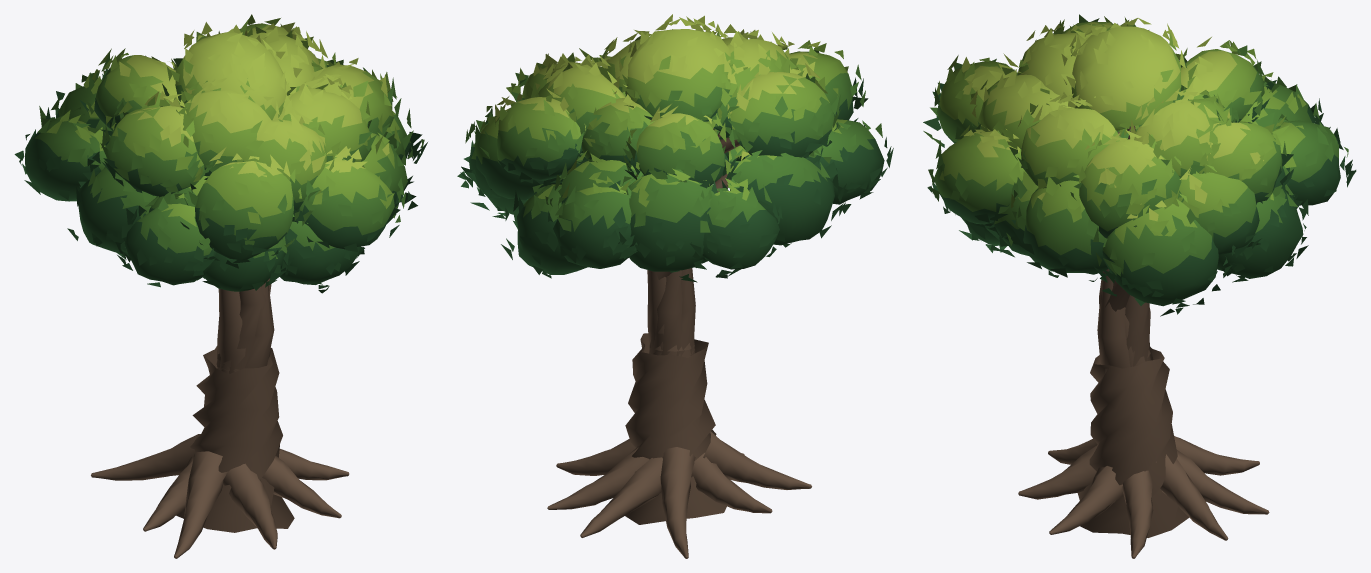
Rendered from AncientOakB.glb.
3 views of the same model, side by side, from view 1: azimuth 30°, elevation 25°; view 2: azimuth 150°, elevation 25°; view 3: azimuth 270°, elevation 25° (orthographic).
Visible parts, largest first — view 1: AncientOakB.bark, AncientOakB.leafMid, AncientOakB.leafLight, AncientOakB.leafGold, AncientOakB.leafDark; view 2: AncientOakB.leafDark, AncientOakB.bark, AncientOakB.leafMid, AncientOakB.leafLight, AncientOakB.leafGold; view 3: AncientOakB.leafLight, AncientOakB.bark, AncientOakB.leafGold, AncientOakB.leafMid, AncientOakB.leafDark.
Part boxes in pixels (x1,y1,x2,y2): AncientOakB.bark: (91, 278, 349, 558); AncientOakB.leafMid: (35, 52, 424, 259); AncientOakB.leafLight: (46, 14, 400, 226); AncientOakB.leafGold: (119, 22, 389, 177); AncientOakB.leafDark: (14, 69, 427, 293); AncientOakB.leafDark: (457, 77, 893, 282); AncientOakB.bark: (547, 128, 811, 558); AncientOakB.leafMid: (465, 47, 882, 232); AncientOakB.leafLight: (480, 31, 848, 206); AncientOakB.leafGold: (495, 14, 820, 160); AncientOakB.leafLight: (934, 16, 1306, 243); AncientOakB.bark: (1018, 126, 1269, 558); AncientOakB.leafGold: (962, 18, 1263, 221); AncientOakB.leafMid: (923, 14, 1348, 276); AncientOakB.leafDark: (923, 80, 1356, 316).
Bounding box in the file's own units: 68.93 × 88.63 × 71.72.
